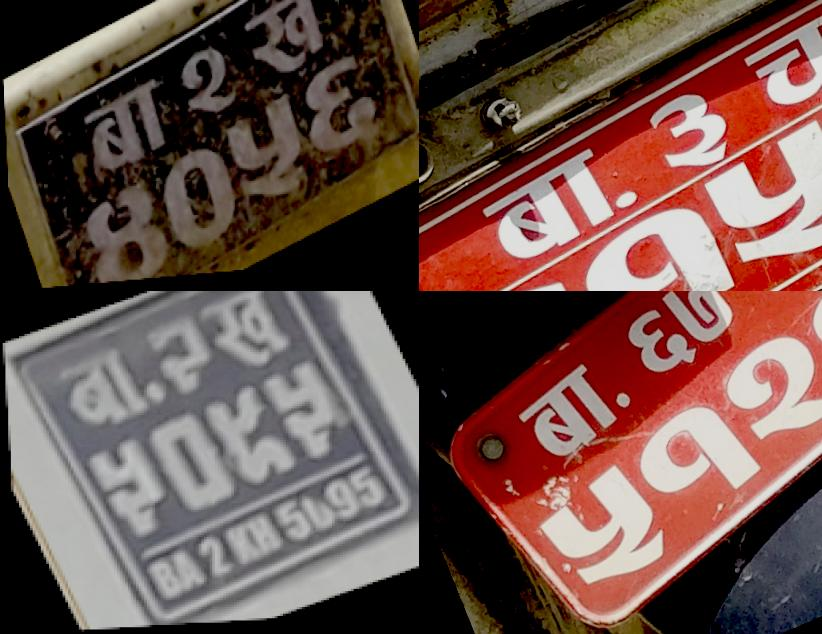0: (130, 400, 242, 526), (504, 358, 627, 471), (76, 79, 170, 182)
1: (558, 190, 749, 291), (710, 325, 822, 452), (172, 43, 236, 128)
2: (138, 309, 232, 402)
3: (621, 393, 763, 527), (630, 83, 743, 193)
4: (289, 54, 383, 171), (618, 301, 698, 389)
5: (684, 115, 822, 291), (254, 356, 361, 476), (76, 430, 182, 547), (75, 180, 168, 286)
6: (521, 457, 672, 606), (219, 98, 312, 218)
7: (653, 291, 741, 359)
9: (190, 373, 304, 502)
ba: (463, 133, 647, 283), (39, 333, 158, 438)
cha: (149, 139, 244, 264), (728, 15, 822, 135)
ja: (239, 0, 327, 91)
kha: (192, 291, 303, 387)
